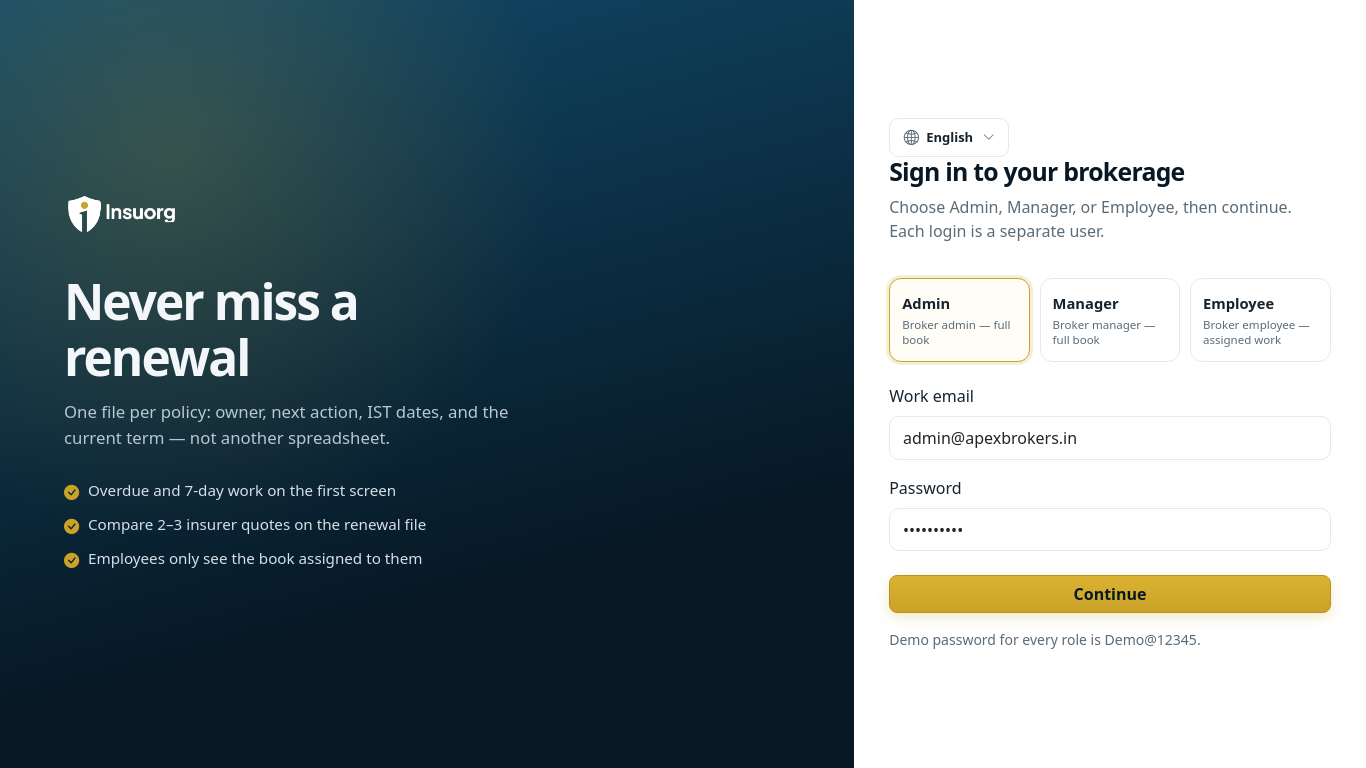
Test case: LoginPage › shows an error when sign-in fails
Click the button "Employee Broker employee — assigned work" at {"x": 1260, "y": 320}, box [1190,278,1331,362]
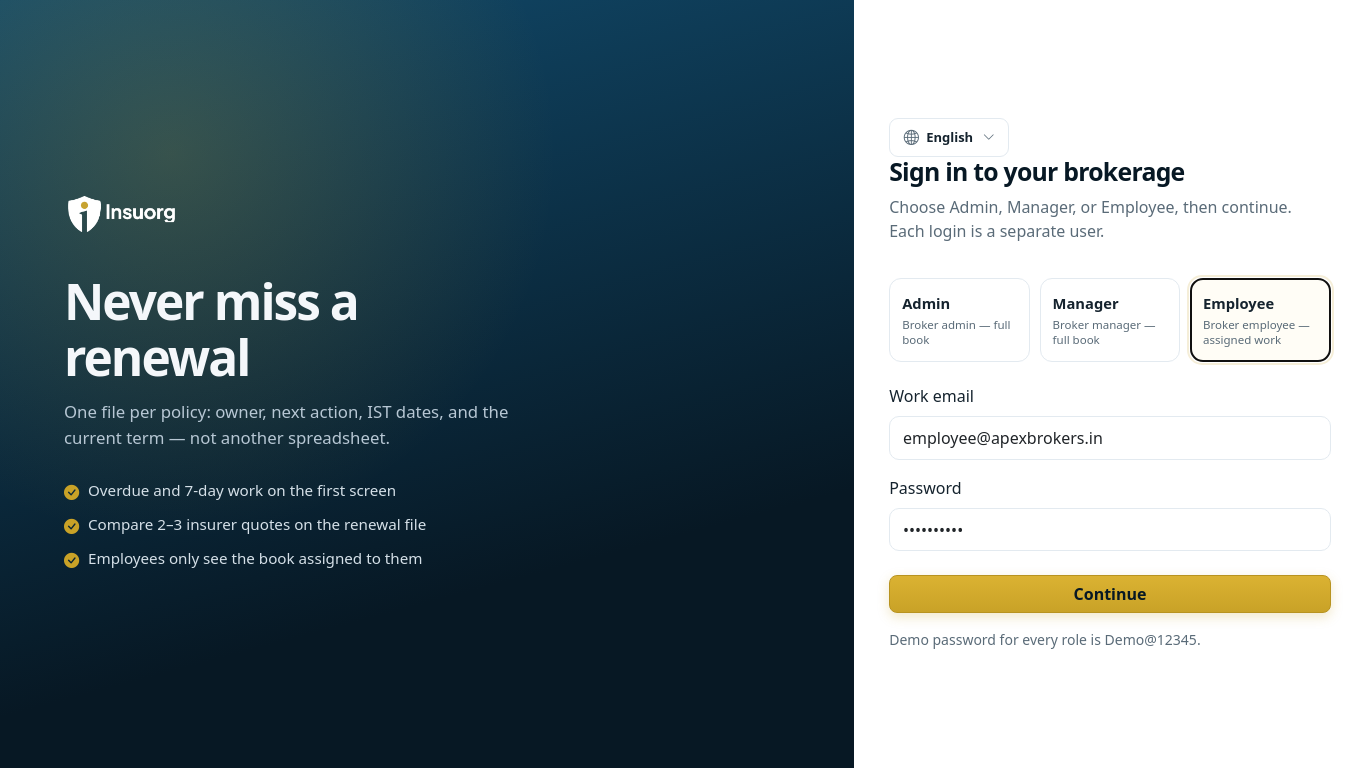
Click the button "Continue" at {"x": 1110, "y": 594}, box [889,575,1331,613]
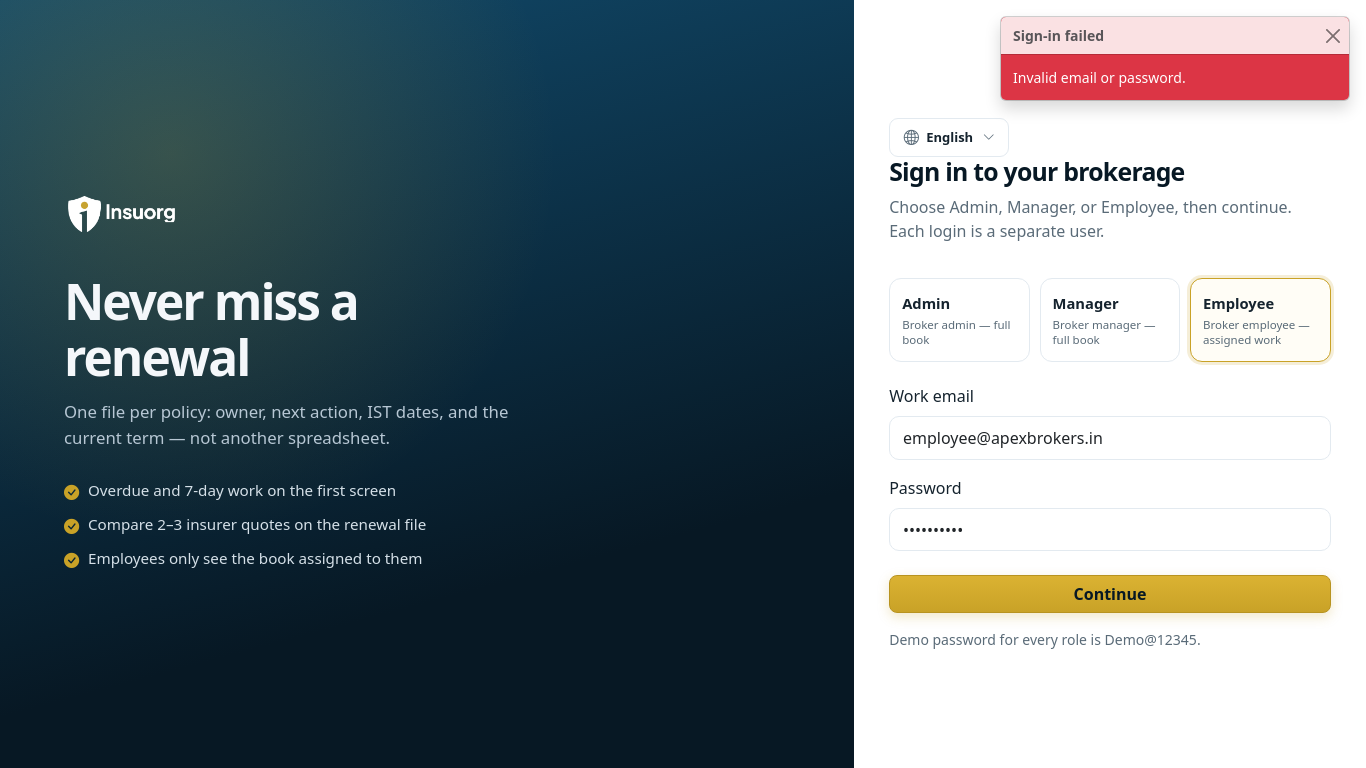
Expected: the heading "Sign in to your brokerage" is shown, [889,154,1184,188]
Expected: the text "Invalid email or password." is shown, [1013,68,1186,87]
